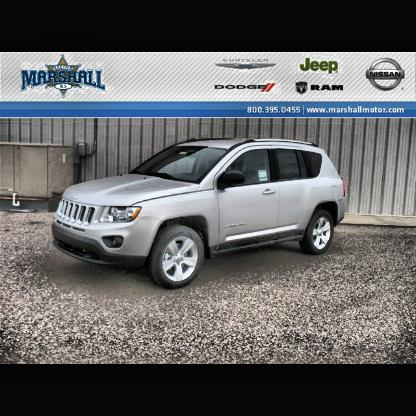Jeep Compass SUV 2012: (55, 138, 349, 292)
